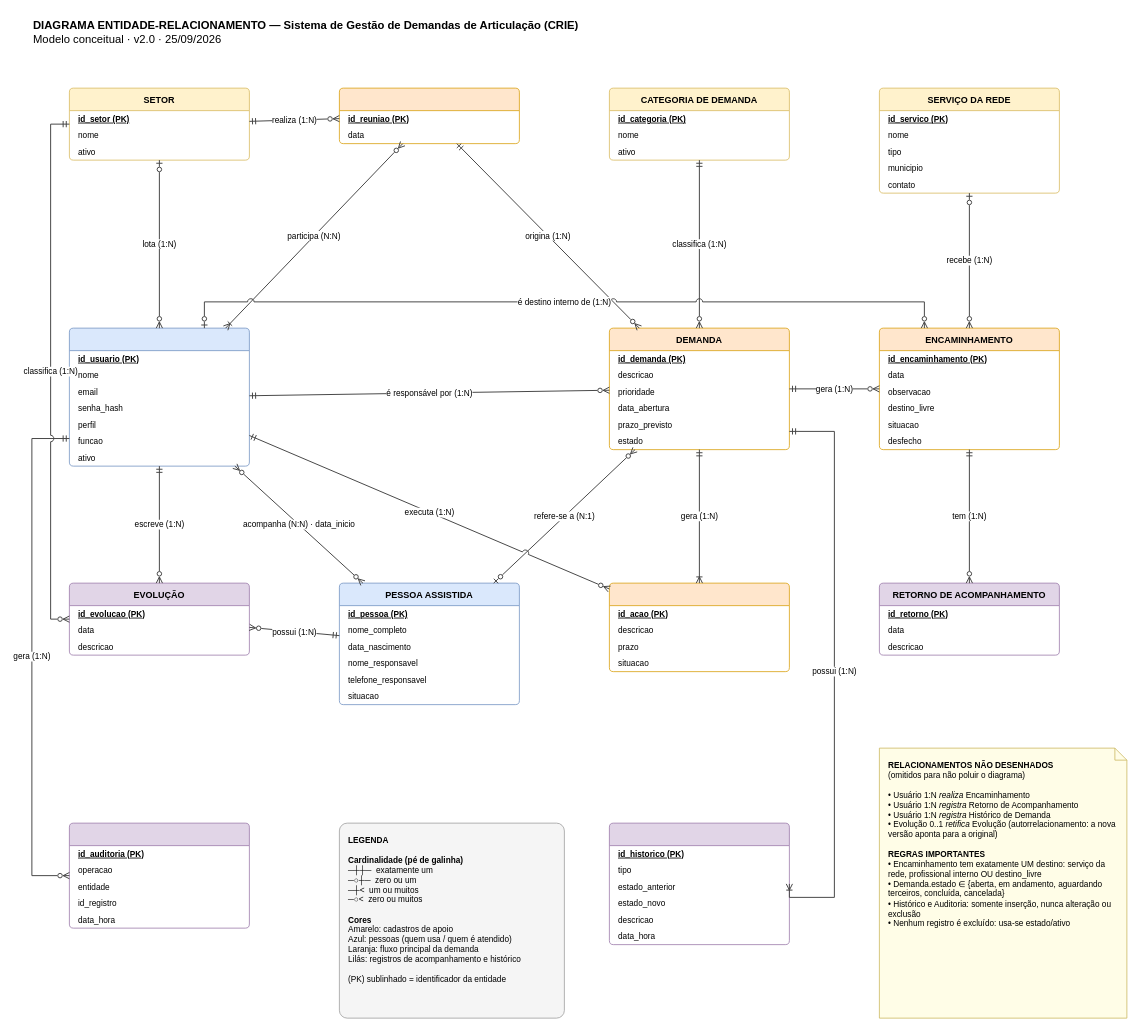
The diagram is 1140 pixels wide and 1031 high, and some of its shapes have lost their labels. Each missing label, with the box of its shape:
AÇÃO: (609, 582, 789, 672)
HISTÓRICO DE DEMANDA: (609, 822, 789, 945)
REGISTRO DE AUDITORIA: (69, 822, 249, 928)
REUNIÃO: (339, 87, 519, 144)
USUÁRIO: (69, 327, 249, 466)
